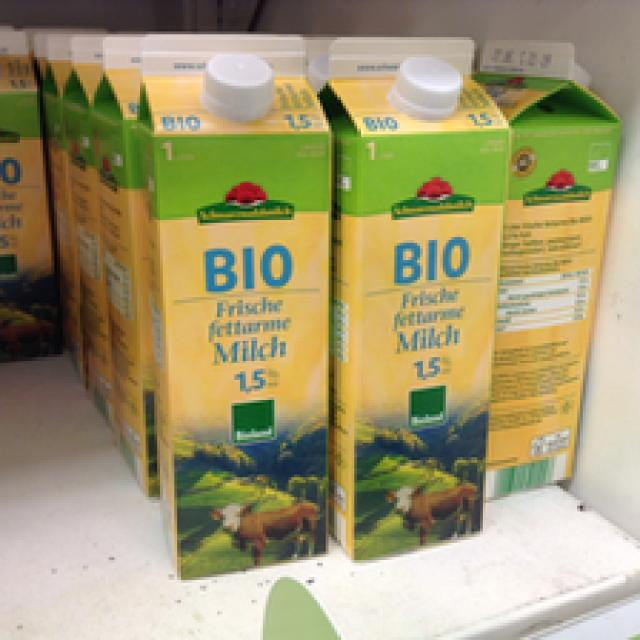groceries: (140, 34, 331, 583), (320, 34, 494, 569)
